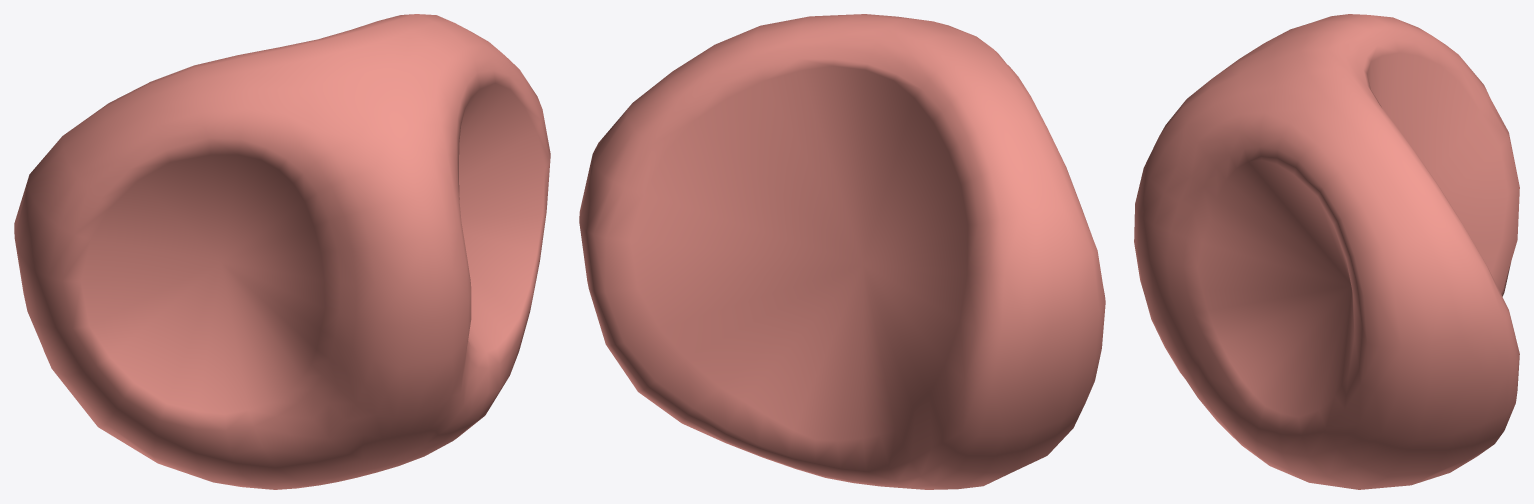
File: mixamo_humanoid_surface_hips.fbx
The picture shows the model from 3 angles, left to right: view 1: azimuth 30°, elevation 25°; view 2: azimuth 150°, elevation 25°; view 3: azimuth 270°, elevation 25°; orthographic projection. The views are drawn at different scales.
Parts seen in each view (by area): view 1: surface_Hips; view 2: surface_Hips; view 3: surface_Hips.
Boxes of the visible parts, x1,y1,x2,y2 form: surface_Hips: (14,14,550,489); surface_Hips: (579,14,1105,489); surface_Hips: (1134,14,1519,489).
Size of the model in its own units: 33.98 by 27.46 by 23.75.
